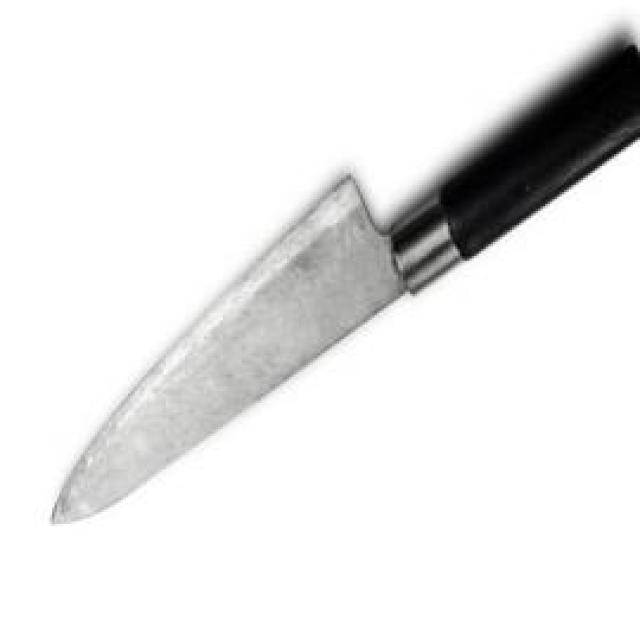knife: (42, 41, 640, 524)
